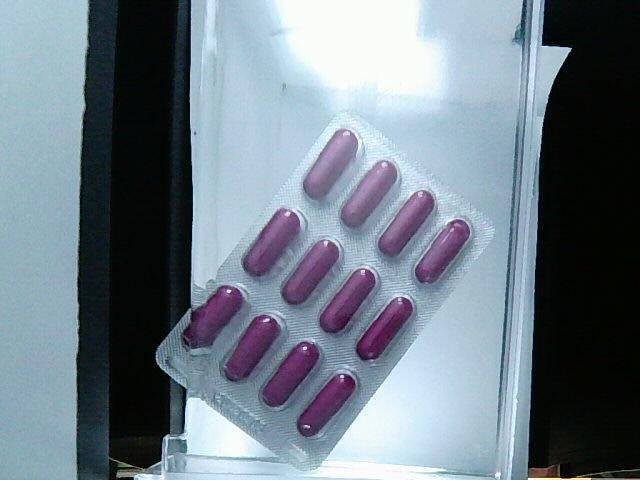Light Front: (154, 113, 496, 475)
Pill Front: (178, 284, 244, 356), (256, 341, 322, 413), (315, 264, 380, 336), (375, 187, 438, 261), (300, 126, 362, 200), (351, 295, 417, 364), (414, 216, 474, 291), (278, 239, 342, 309), (295, 372, 358, 439), (220, 314, 282, 382), (337, 160, 396, 229), (241, 207, 300, 274)
